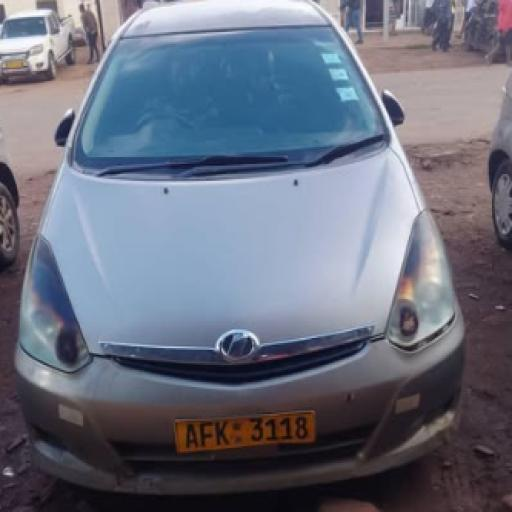number-plates: (178, 412, 314, 449)
